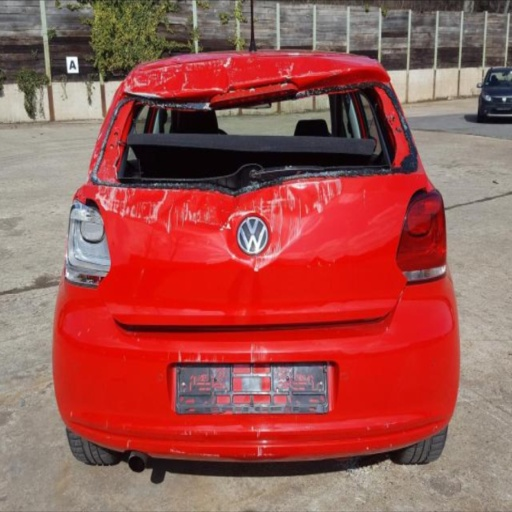dent: (127, 56, 337, 97), (100, 176, 247, 233), (271, 173, 330, 228)
scratch: (170, 448, 221, 458), (125, 438, 130, 450), (388, 441, 394, 448), (385, 421, 390, 428), (366, 426, 370, 431), (106, 421, 108, 429), (366, 446, 369, 451), (70, 408, 72, 415)
